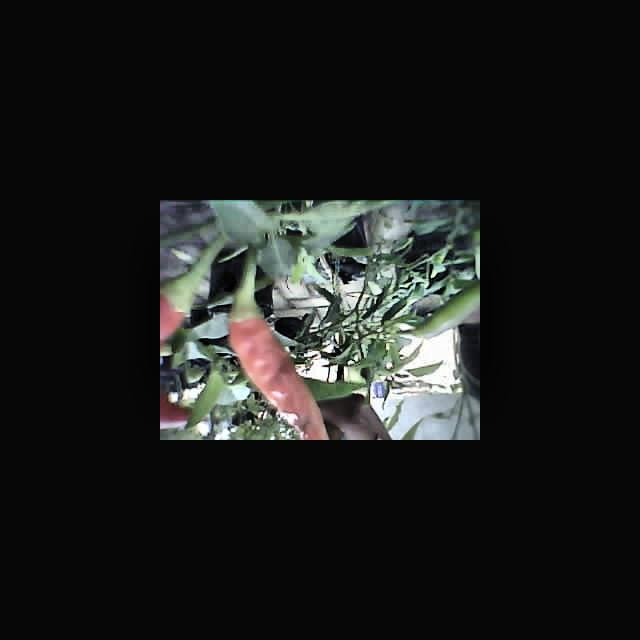Cabai: (234, 308, 334, 440), (161, 285, 190, 361)
